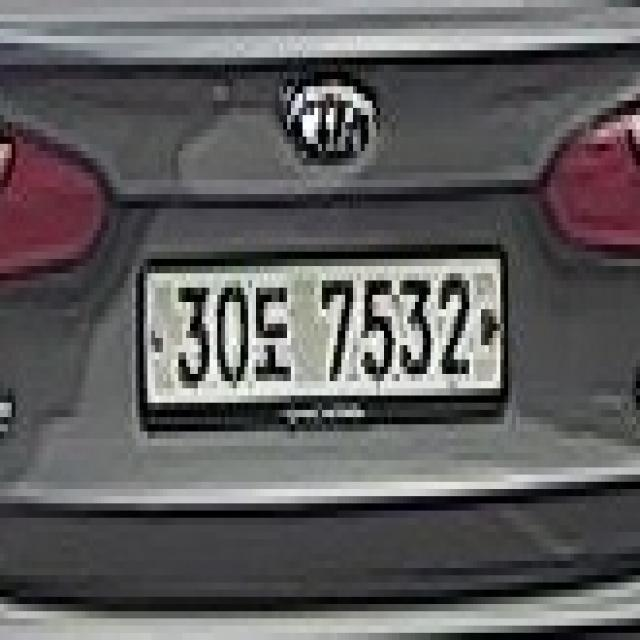0: (213, 281, 252, 388)
2: (434, 266, 474, 374)
3: (396, 273, 430, 381), (178, 281, 210, 388)
5: (360, 281, 396, 388)
7: (318, 274, 357, 388)
do: (252, 288, 291, 396)
license_plate: (132, 238, 512, 432)
